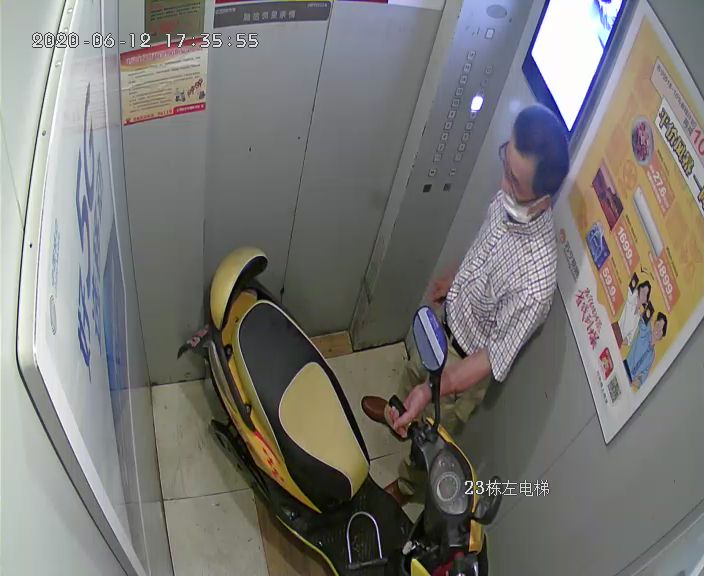Electric-bicycle: (201, 246, 502, 576)
